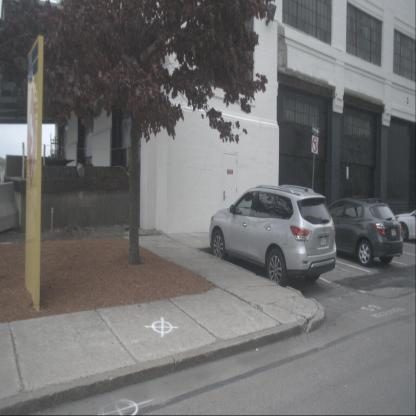vehicle-car: (208, 184, 336, 289), (307, 195, 403, 268), (392, 205, 416, 243)
